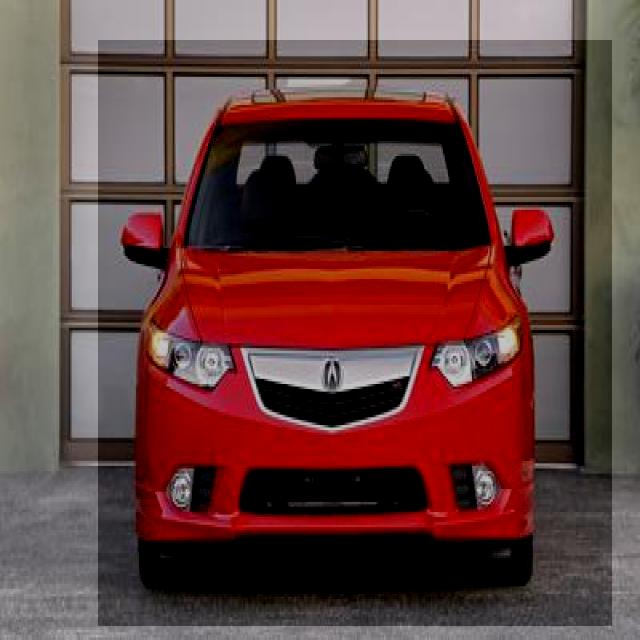Car: (98, 40, 612, 626)
